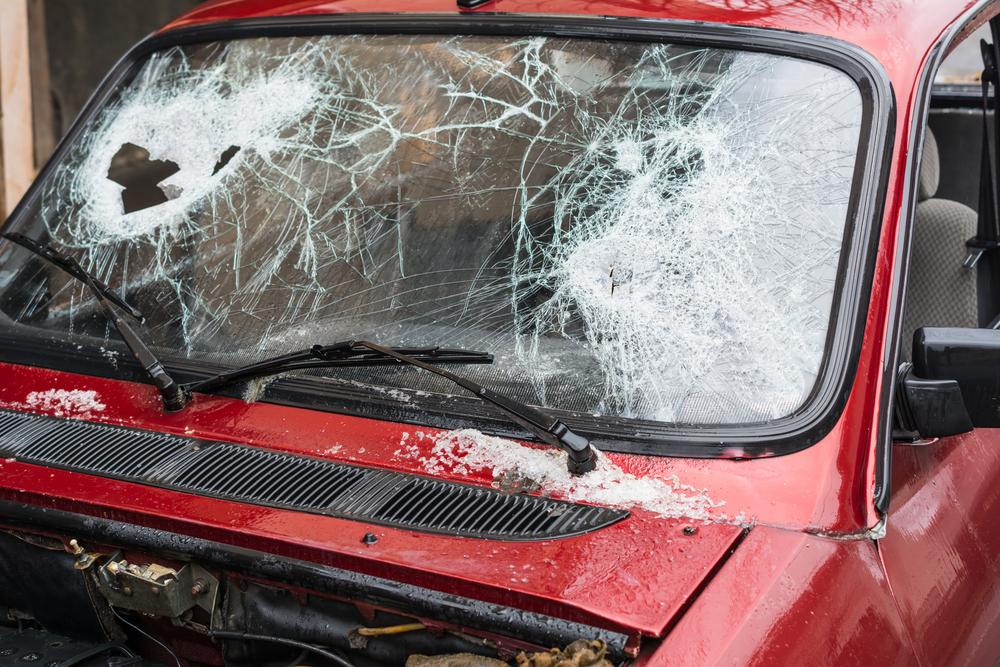glass shatter: (0, 37, 860, 425)
